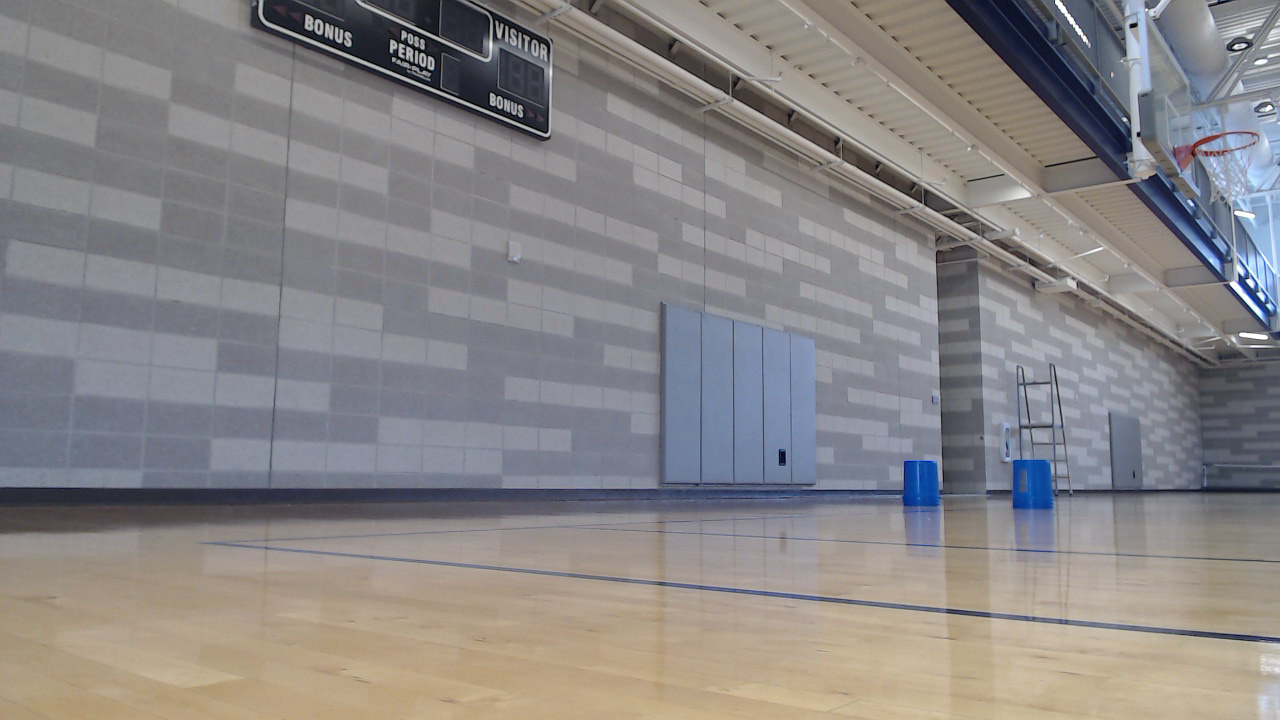blue_bucket: (1012, 460, 1064, 519), (903, 463, 947, 515)
